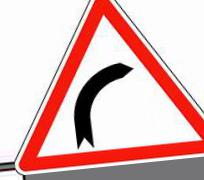right: (15, 1, 204, 176)
